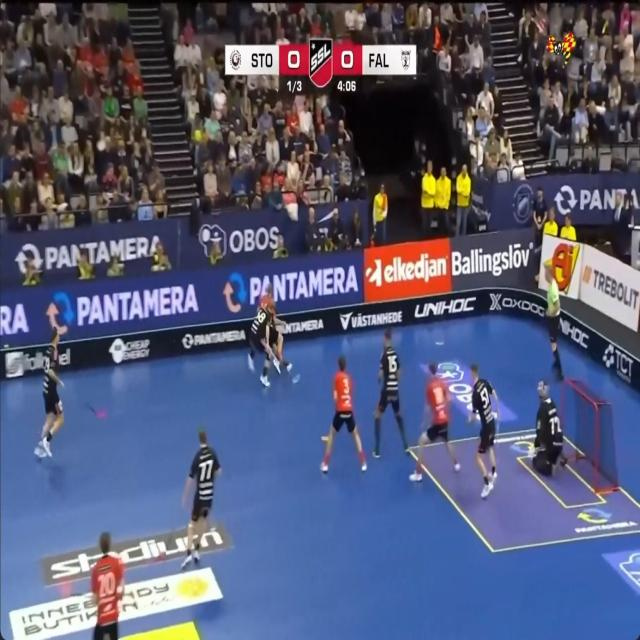player: (409, 364, 459, 480), (181, 430, 221, 569), (320, 355, 367, 472), (373, 328, 408, 458), (469, 364, 499, 498), (34, 329, 64, 456), (91, 532, 123, 639), (532, 380, 566, 475), (248, 301, 279, 387), (545, 265, 563, 379)
